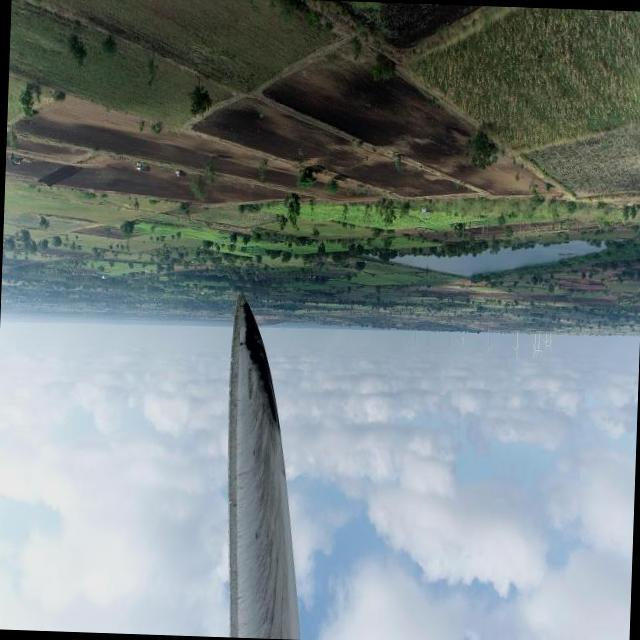Dirt: (228, 292, 302, 640)
Oil LEAKAGE: (244, 298, 283, 431)
Pin Hole: (235, 338, 246, 348)
